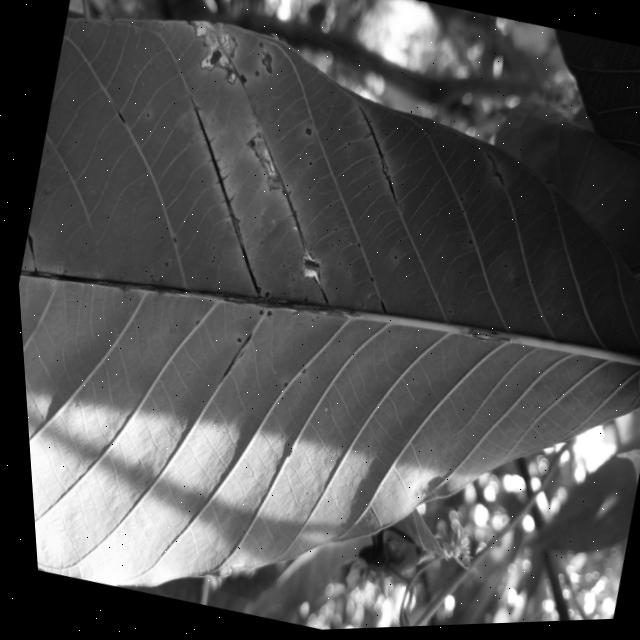Colletotrichum: (302, 128, 311, 137), (253, 71, 259, 79), (295, 369, 301, 375), (260, 291, 265, 298), (254, 310, 259, 316), (232, 338, 237, 343), (262, 311, 267, 316), (464, 242, 469, 247)
Corynespora: (143, 92, 300, 301), (221, 130, 360, 307), (333, 104, 417, 209), (474, 152, 509, 190), (19, 225, 37, 255)
Leaf-Blight: (174, 15, 248, 87), (237, 132, 291, 193)
